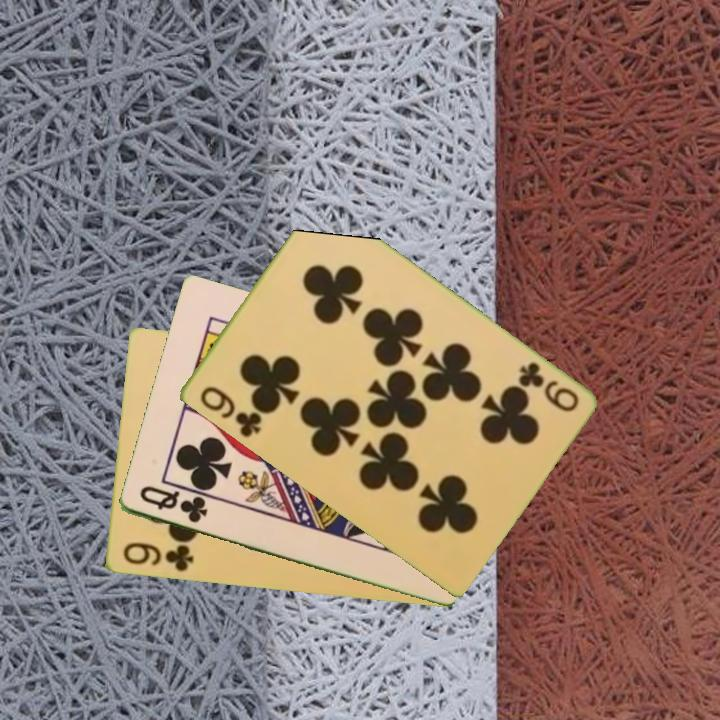9c: (195, 382, 264, 441), (513, 358, 582, 415), (119, 539, 196, 575)
Qc: (135, 482, 211, 526)
